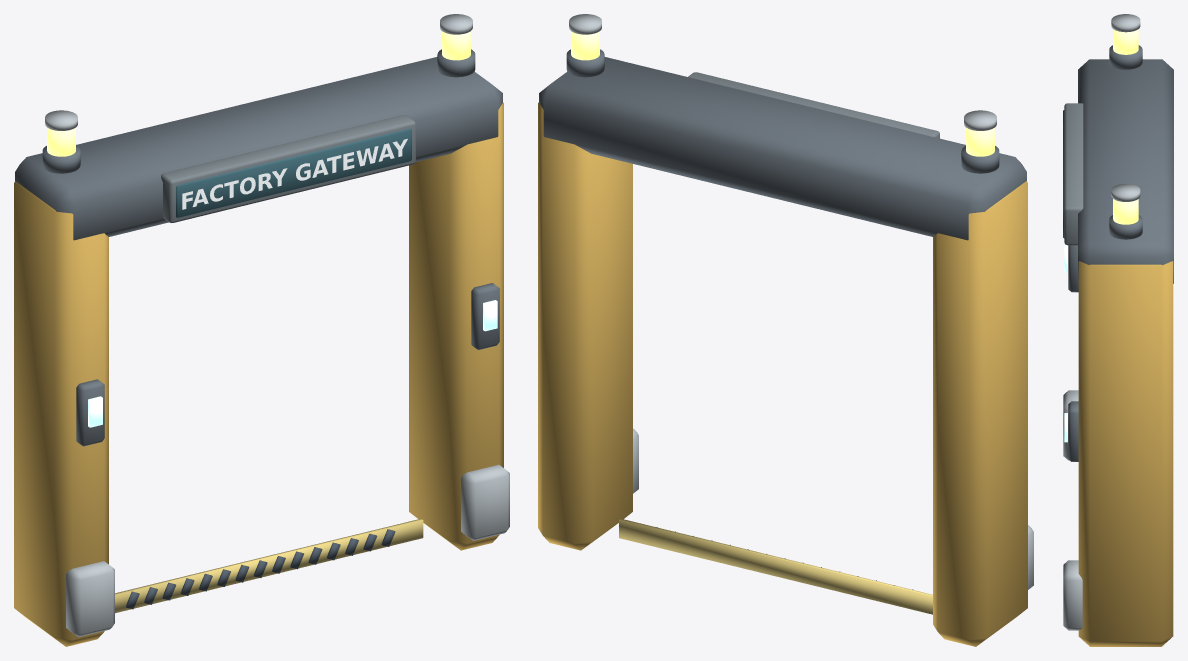
The model's file is factory_gateway_enhanced.glb.
3 renders of one model, left to right at view 1: azimuth 30°, elevation 25°; view 2: azimuth 150°, elevation 25°; view 3: azimuth 270°, elevation 25°, orthographic. The views are drawn at different scales.
Parts seen in each view (by area): view 1: Pillar_orange_legacy_0, Header_dark_legacy_4, Footing_steel_legacy_11, SignPlate_glass, ScreenMount_frame, Detail_yellow_legacy_9, AccessPanel_dark_legacy_12, Detail_black_legacy_10, TypeLabel_white, StatusLight_warn_legacy_2, Beacon_dark_legacy_1, Beacon_steel_legacy_3 (+1 smaller); view 2: Pillar_orange_legacy_0, Header_dark_legacy_4, Detail_yellow_legacy_9, ScreenMount_frame, StatusLight_warn_legacy_2, Beacon_dark_legacy_1, Beacon_steel_legacy_3, Footing_steel_legacy_11; view 3: Pillar_orange_legacy_0, Header_dark_legacy_4, ScreenMount_frame, Footing_steel_legacy_11, StatusLight_warn_legacy_2, Beacon_dark_legacy_1, AccessPanel_dark_legacy_12, Beacon_steel_legacy_3, SignPlate_glass, StatusLight_glow_legacy_13.
Part boxes in pixels (x1=…): Pillar_orange_legacy_0: x1=14, y1=102, x2=503, y2=646; Header_dark_legacy_4: x1=15, y1=57, x2=502, y2=240; Footing_steel_legacy_11: x1=66, y1=464, x2=509, y2=637; SignPlate_glass: x1=176, y1=128, x2=411, y2=217; ScreenMount_frame: x1=161, y1=115, x2=415, y2=222; Detail_yellow_legacy_9: x1=115, y1=518, x2=423, y2=613; AccessPanel_dark_legacy_12: x1=76, y1=283, x2=499, y2=446; Detail_black_legacy_10: x1=125, y1=529, x2=395, y2=609; TypeLabel_white: x1=182, y1=138, x2=407, y2=209; StatusLight_warn_legacy_2: x1=47, y1=31, x2=470, y2=156; Beacon_dark_legacy_1: x1=42, y1=49, x2=475, y2=173; Beacon_steel_legacy_3: x1=45, y1=14, x2=472, y2=130; Pillar_orange_legacy_0: x1=538, y1=102, x2=1027, y2=646; Header_dark_legacy_4: x1=539, y1=57, x2=1026, y2=240; Detail_yellow_legacy_9: x1=619, y1=518, x2=932, y2=614; ScreenMount_frame: x1=688, y1=72, x2=939, y2=138; StatusLight_warn_legacy_2: x1=571, y1=31, x2=994, y2=156; Beacon_dark_legacy_1: x1=566, y1=49, x2=999, y2=173; Beacon_steel_legacy_3: x1=569, y1=14, x2=996, y2=130; Footing_steel_legacy_11: x1=633, y1=428, x2=1033, y2=589; Pillar_orange_legacy_0: x1=1078, y1=261, x2=1173, y2=646; Header_dark_legacy_4: x1=1078, y1=59, x2=1173, y2=283; ScreenMount_frame: x1=1064, y1=103, x2=1083, y2=245; Footing_steel_legacy_11: x1=1063, y1=390, x2=1082, y2=630; StatusLight_warn_legacy_2: x1=1113, y1=29, x2=1138, y2=224; Beacon_dark_legacy_1: x1=1109, y1=45, x2=1142, y2=239; AccessPanel_dark_legacy_12: x1=1068, y1=245, x2=1078, y2=461; Beacon_steel_legacy_3: x1=1111, y1=14, x2=1140, y2=201; SignPlate_glass: x1=1063, y1=110, x2=1064, y2=238; StatusLight_glow_legacy_13: x1=1064, y1=243, x2=1067, y2=442.
Size of the model in its own units: 3.14 by 3.41 by 0.769.
